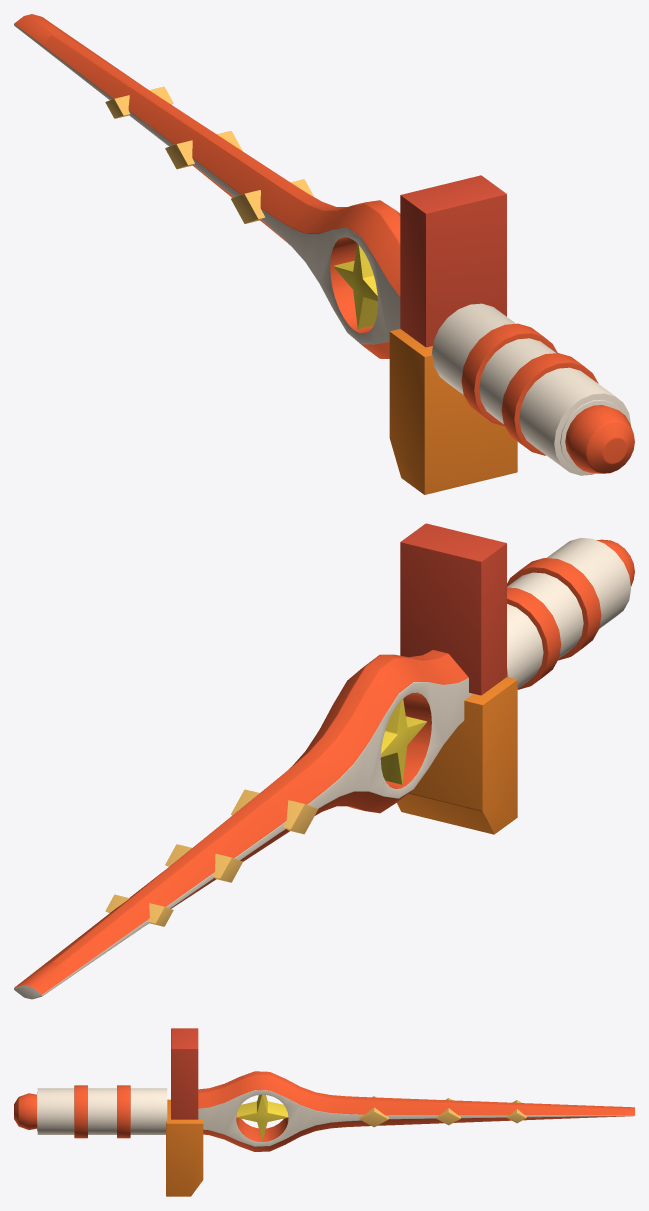
File: Sword_FirstSpark.glb
3 views of the same model, one above another, from view 1: azimuth 30°, elevation 25°; view 2: azimuth 150°, elevation 25°; view 3: azimuth 270°, elevation 25° (orthographic). The views are drawn at different scales.
Parts seen in each view (by area): view 1: Sword_FirstSpark; view 2: Sword_FirstSpark; view 3: Sword_FirstSpark.
Part boxes in pixels (x1,y1,x2,y2): Sword_FirstSpark: [14, 14, 634, 494]; Sword_FirstSpark: [14, 523, 634, 999]; Sword_FirstSpark: [14, 1028, 634, 1196].
Size of the model in its own units: 0.092 by 0.26 by 1.
1 material, 1 textured.
